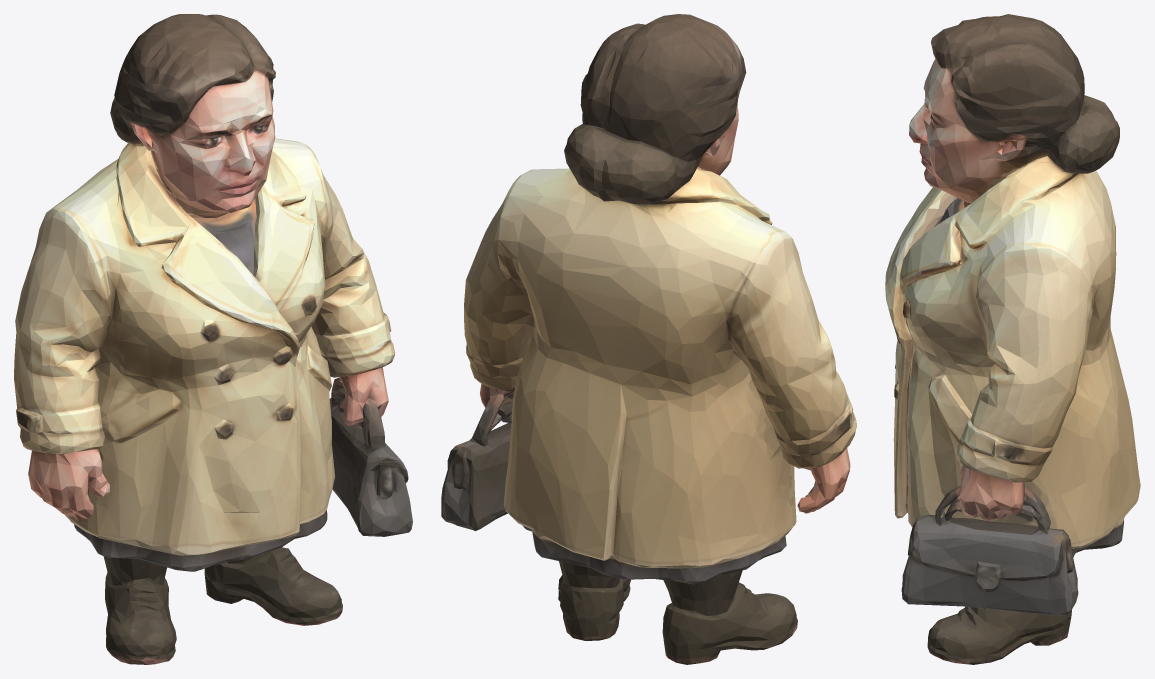
3 renders of one model, left to right at view 1: azimuth 30°, elevation 25°; view 2: azimuth 150°, elevation 25°; view 3: azimuth 270°, elevation 25°, orthographic. The views are drawn at different scales.
Visible parts, largest first — view 1: figure; view 2: figure; view 3: figure.
Part boxes in pixels (x1=…): figure: x1=14, y1=14, x2=412, y2=664; figure: x1=441, y1=14, x2=856, y2=664; figure: x1=885, y1=14, x2=1140, y2=664.
Size of the model in its own units: 0.7768 by 1.2 by 0.4736.
Materials: 1 (1 with a texture image).
